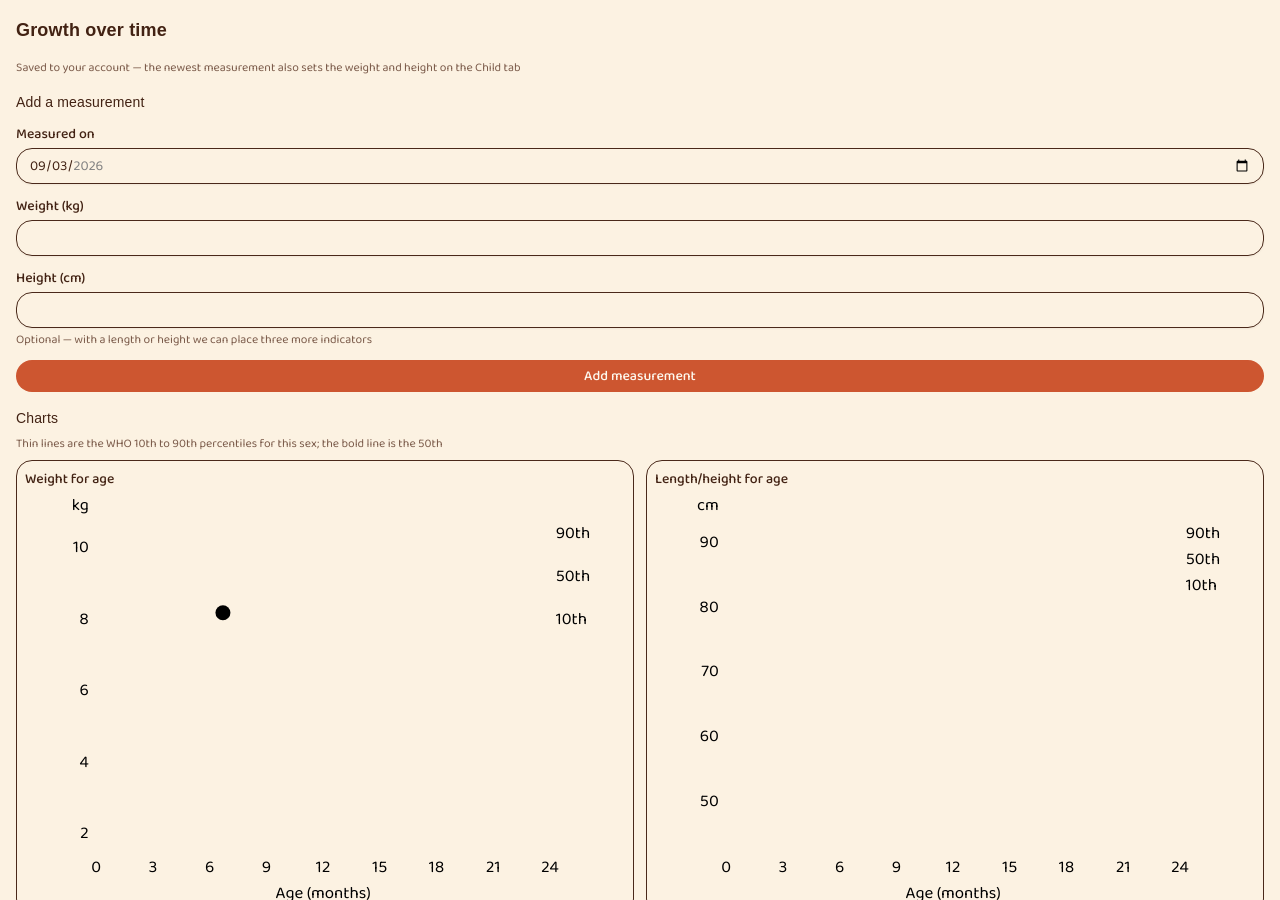
Test: GrowthTab › adding a measurement prepends it and refreshes the profile and targets
Type "8.9" into the number field labelled "Weight (kg)" at [640, 238], box [16, 220, 1264, 256]
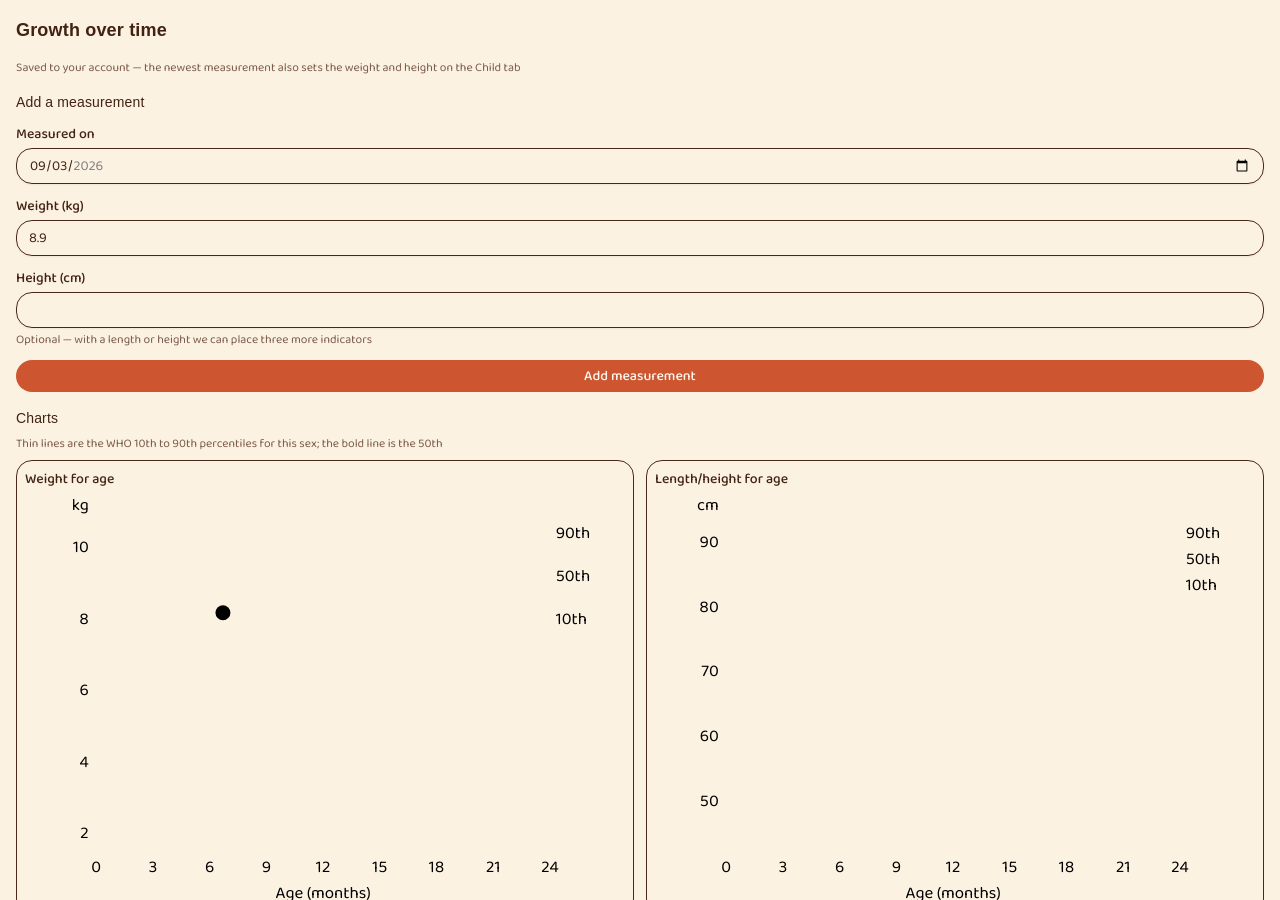
Click the button "Add measurement" at [640, 376], box [16, 360, 1264, 392]
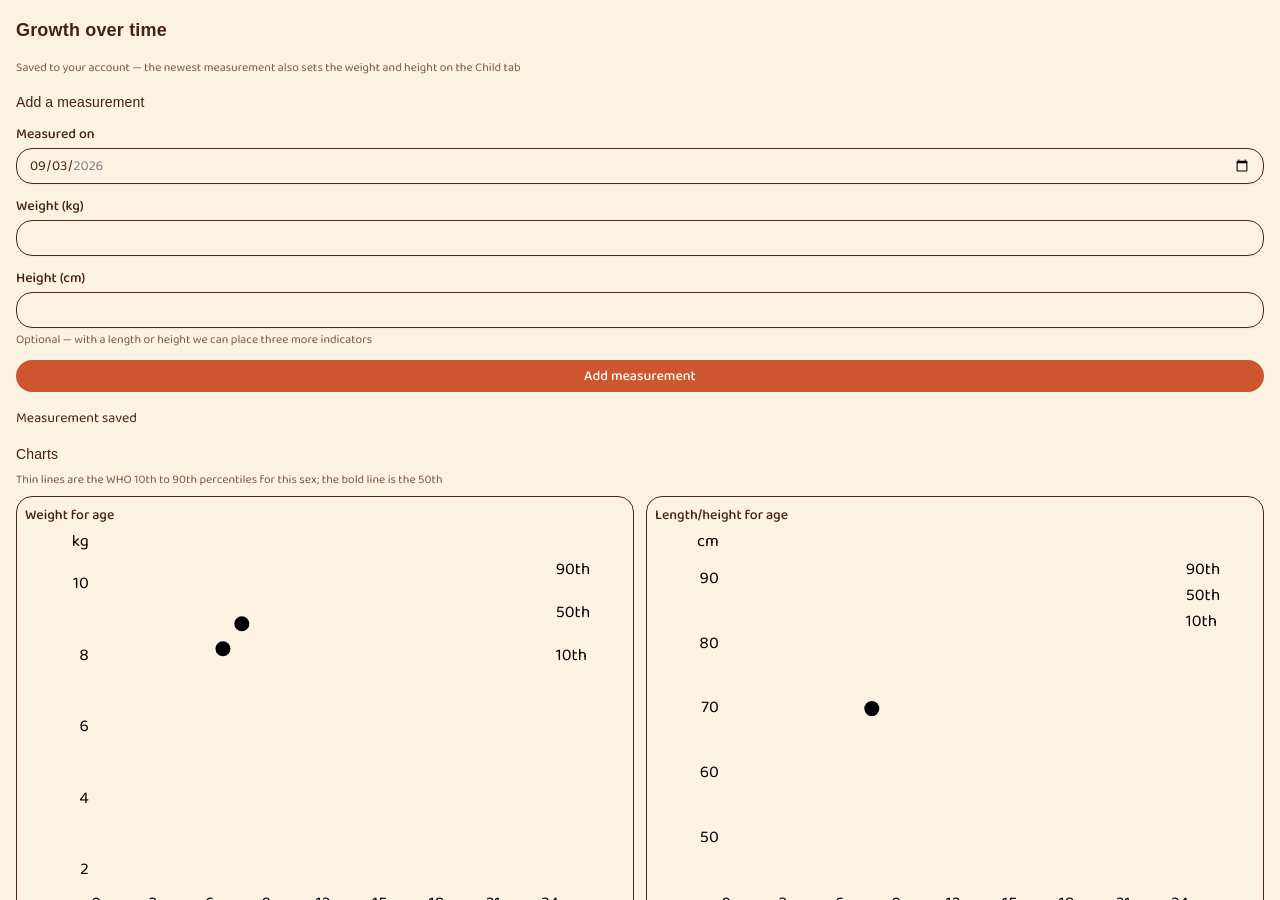
Now the message reads "Measurement saved", box [16, 407, 137, 429]
